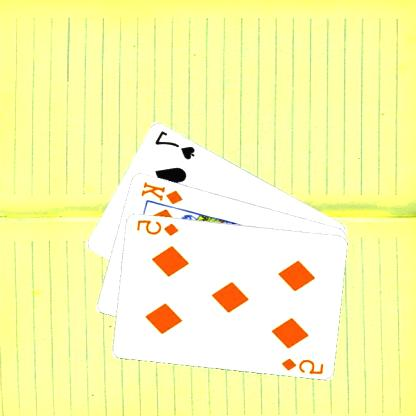5D: (280, 355, 326, 376), (136, 216, 181, 237)
7S: (154, 127, 198, 161)
KD: (139, 178, 186, 206)
